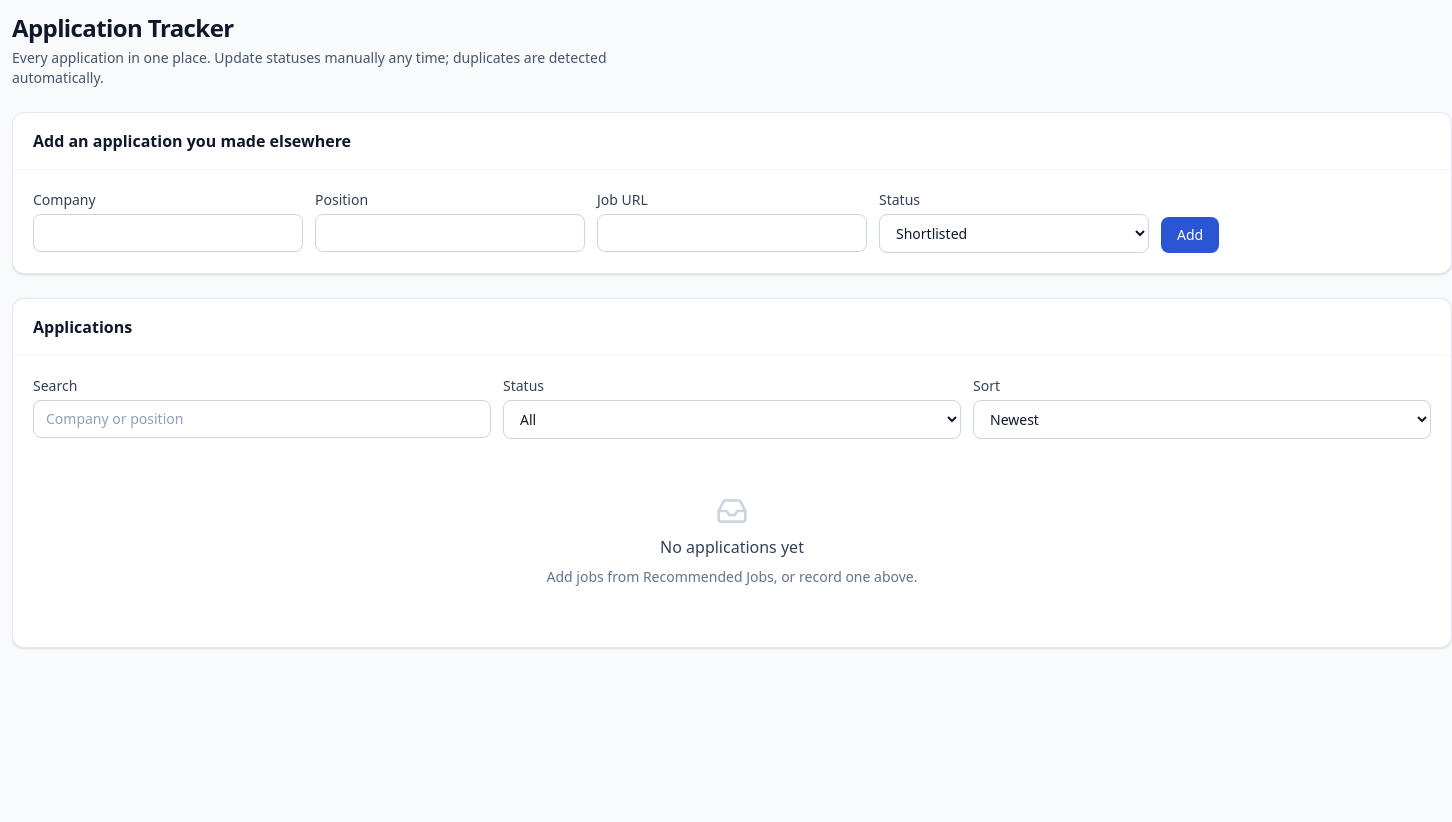
Test case: TrackerPage › shows the duplicate warning from the server when adding
Step 1. Type "Acme" into the field labelled "Company" → [168, 233], box [33, 214, 303, 252]
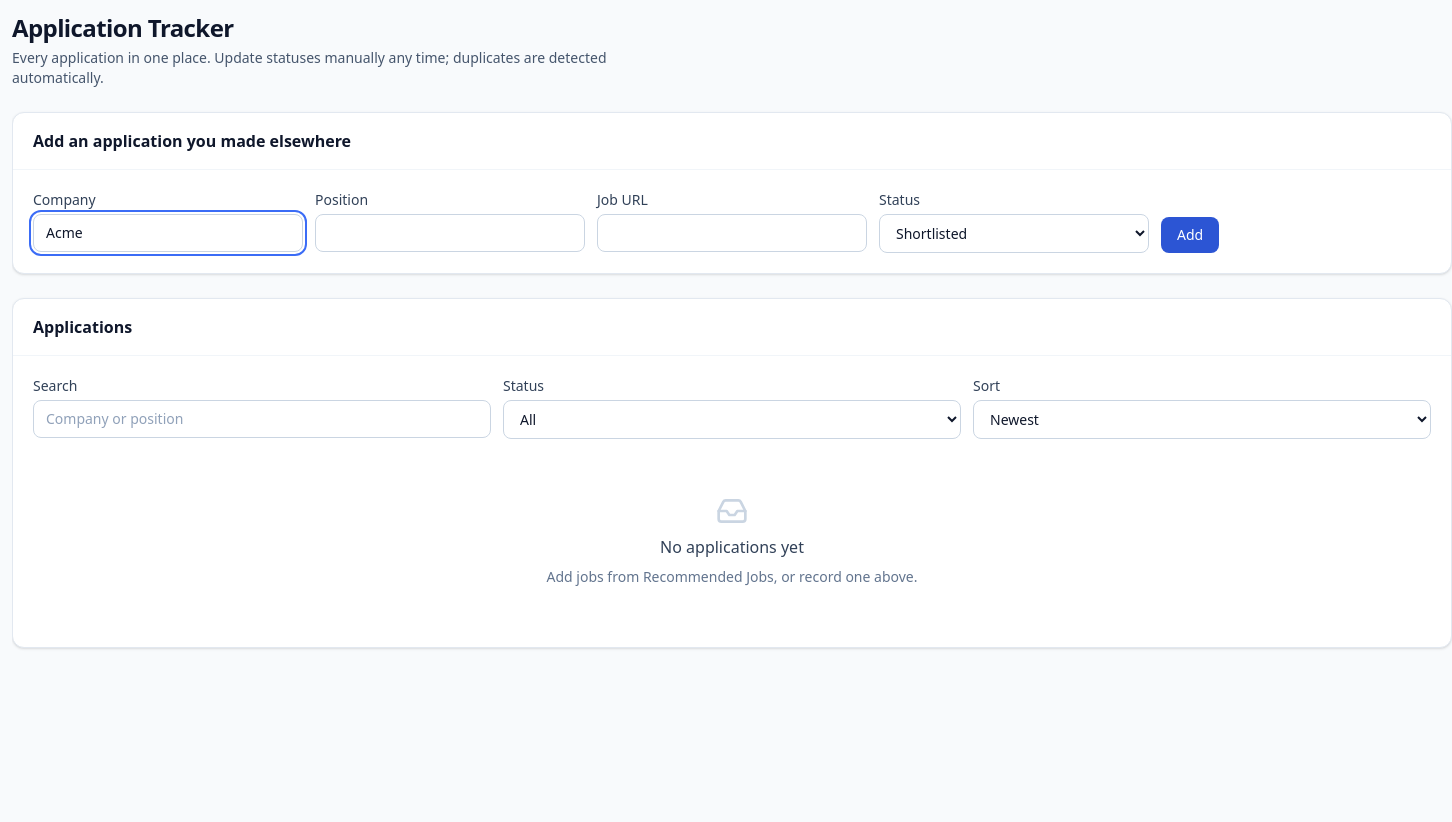
Step 2. Type "Dev" into the field labelled "Position" → [450, 233], box [315, 214, 585, 252]
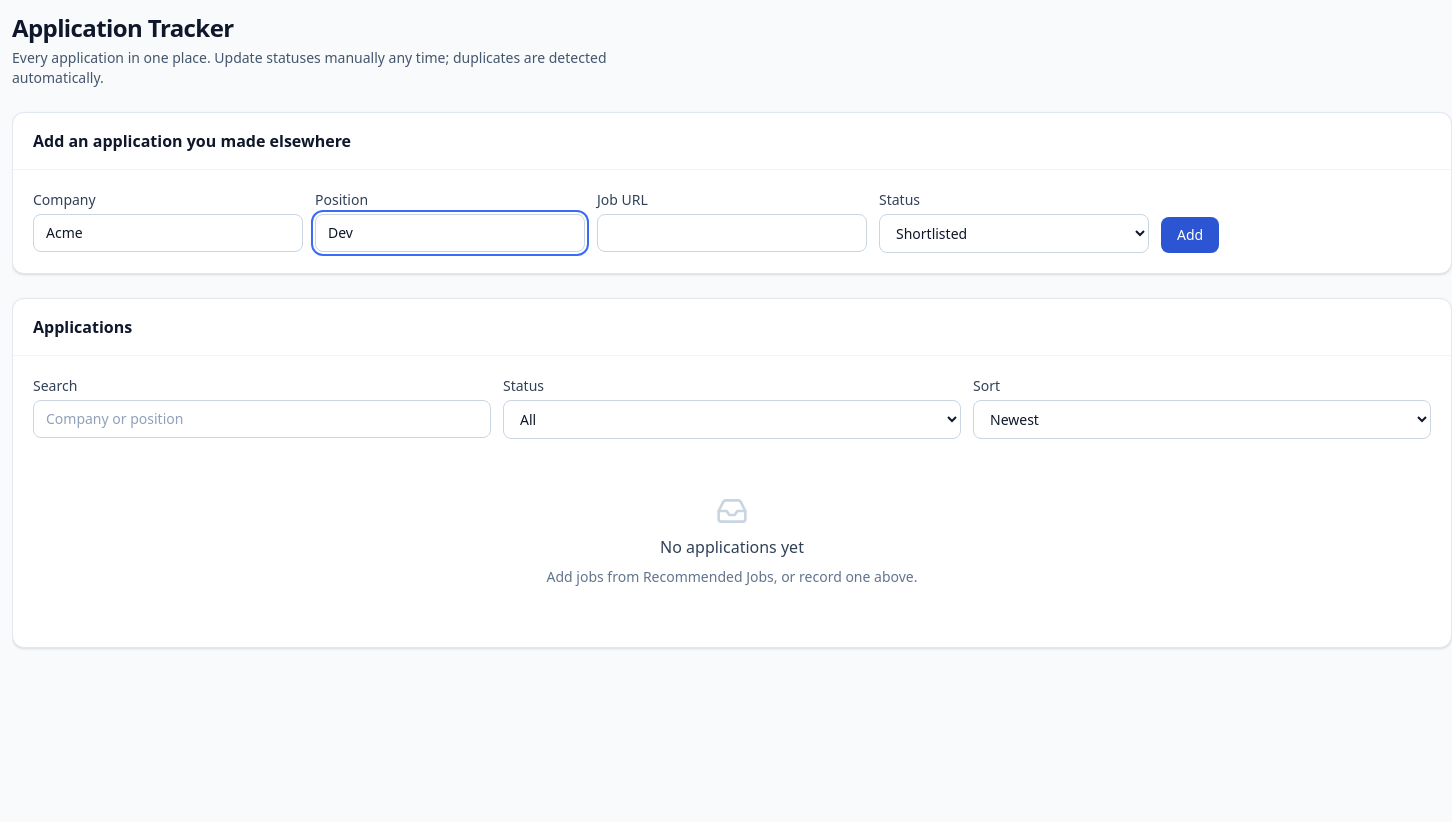
Step 3. Type "https://a.example/1" into the field labelled "Job URL" → [732, 233], box [597, 214, 867, 252]
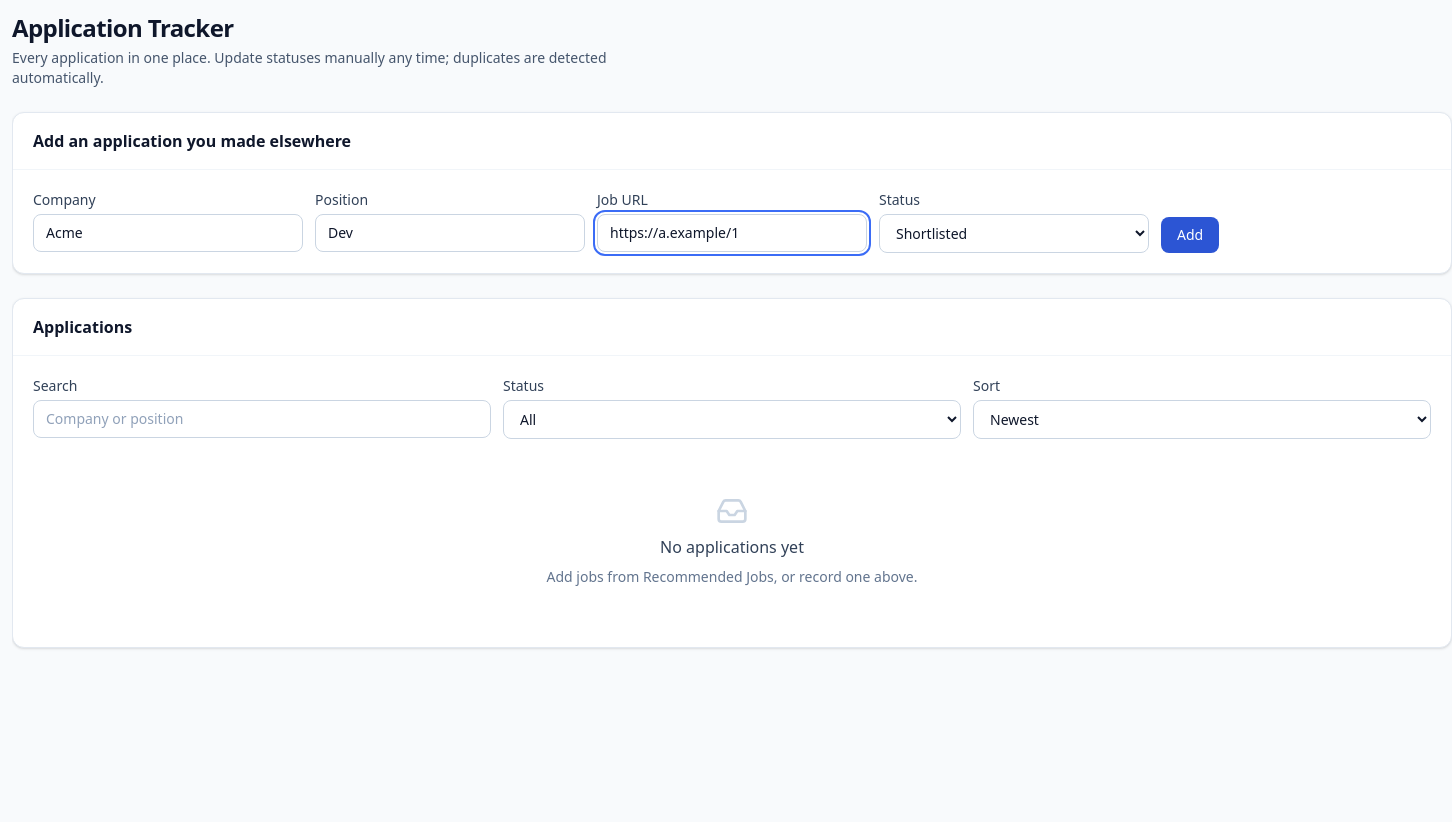
Step 4. Click the button "Add" → [1190, 235], box [1161, 217, 1219, 253]
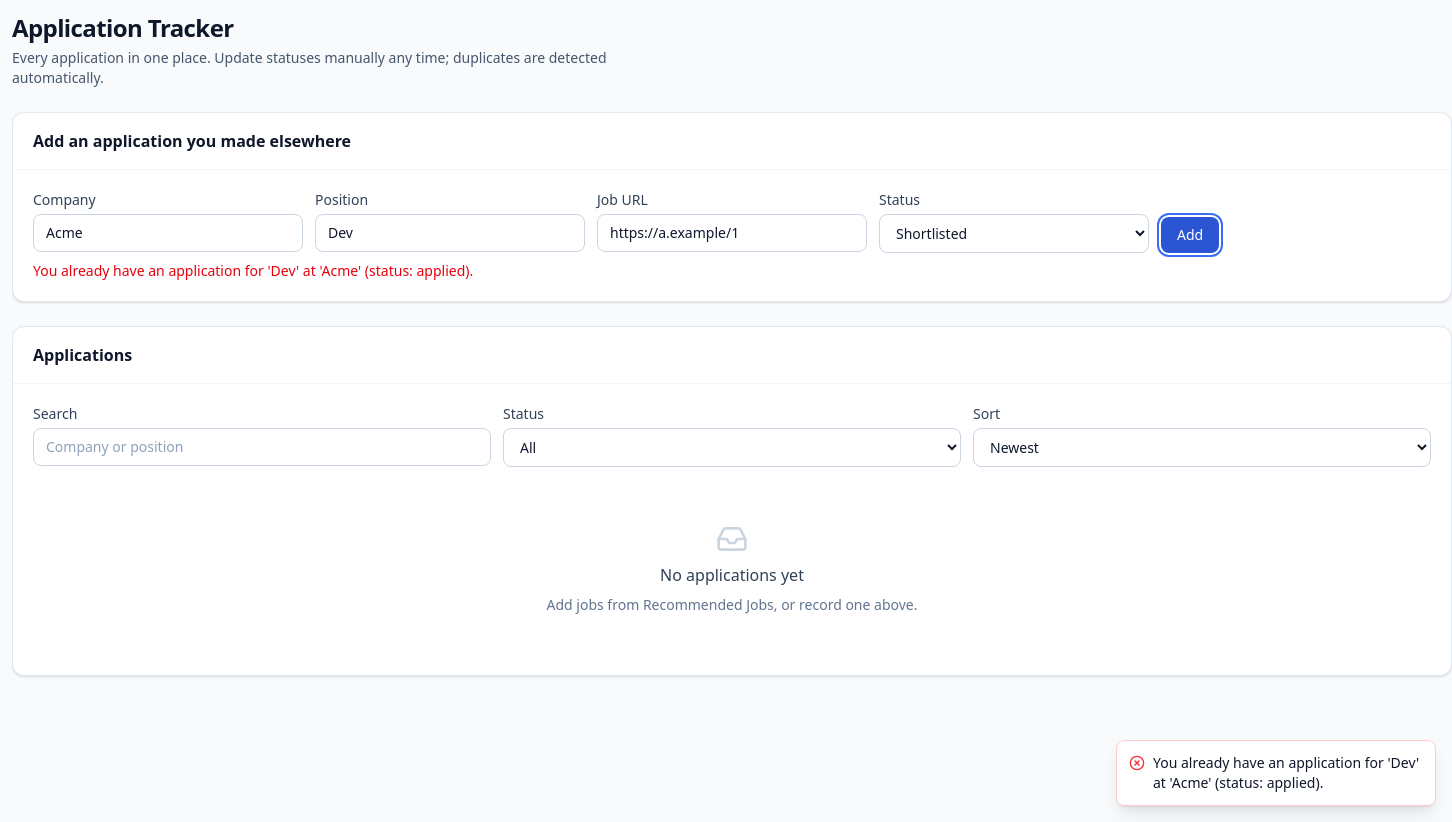
Result: the text "You already have an application for 'Dev' at 'Acme' (status: applied)." below "Company" is shown at [33, 261, 473, 280]
